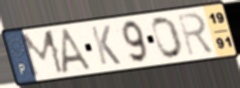9: (119, 19, 151, 65)
A: (60, 26, 96, 75)
K: (89, 24, 123, 67)
M: (19, 28, 67, 80)
O: (151, 15, 185, 61)
R: (176, 11, 216, 59)
